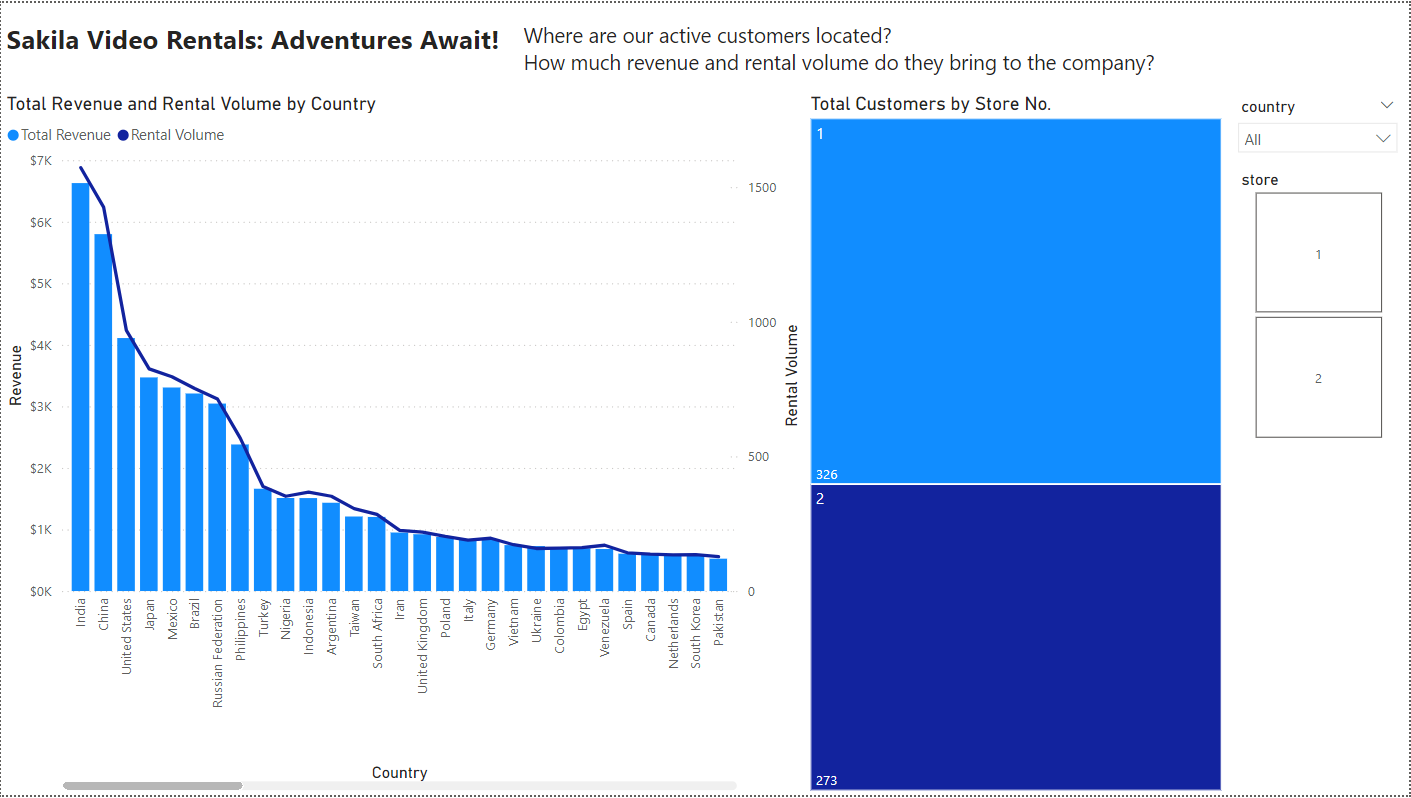

What the dashboard file says about the page in this screenshot:
{"tool":"powerbi","page":{"name":"Country Store Dashboard","canvas":[1280,720],"ordinal":1},"visuals":[{"type":"lineClusteredColumnComboChart","title":"Total Revenue and Popularity by Country","fields":{"Category":["country_store_rev_vol.country"],"Y":["Sum(country_store_rev_vol.total_revenue)"],"Y2":["Sum(country_store_rev_vol.rental_volume)"]},"box":[0,80.9,730.9,640],"z":0},{"type":"textbox","box":[470.2,11.2,615.7,69.7],"z":1000},{"type":"treemap","fields":{"Group":["country_store_active.store","country_store_rev_vol.country"],"Values":["Sum(country_store_active.total_customers)"]},"box":[730.9,80.9,383.6,640],"z":2000},{"type":"slicer","fields":{"Values":["country_store_rev_vol.country"]},"box":[1114.5,80.9,164.5,66.4],"z":3000},{"type":"slicer","fields":{"Values":["country_store_rev_vol.store"]},"box":[1114.5,147.3,164.5,254.5],"z":4000},{"type":"textbox","box":[0,11.2,471.4,52.2],"z":5000}]}

Visuals, with their boxes in screenshot pixels (x1, y1, x2, y2), scaled from the page's 1280x720 canvas onto the 1411x798 screenshot:
"Total Revenue and Popularity by Country" lineClusteredColumnComboChart: bbox=[0, 90, 806, 797]
textbox: bbox=[518, 12, 1197, 90]
treemap - country_store_active.store x country_store_rev_vol.country: bbox=[806, 90, 1229, 797]
slicer - country_store_rev_vol.country: bbox=[1229, 90, 1410, 163]
slicer - country_store_rev_vol.store: bbox=[1229, 163, 1410, 445]
textbox: bbox=[0, 12, 520, 70]
